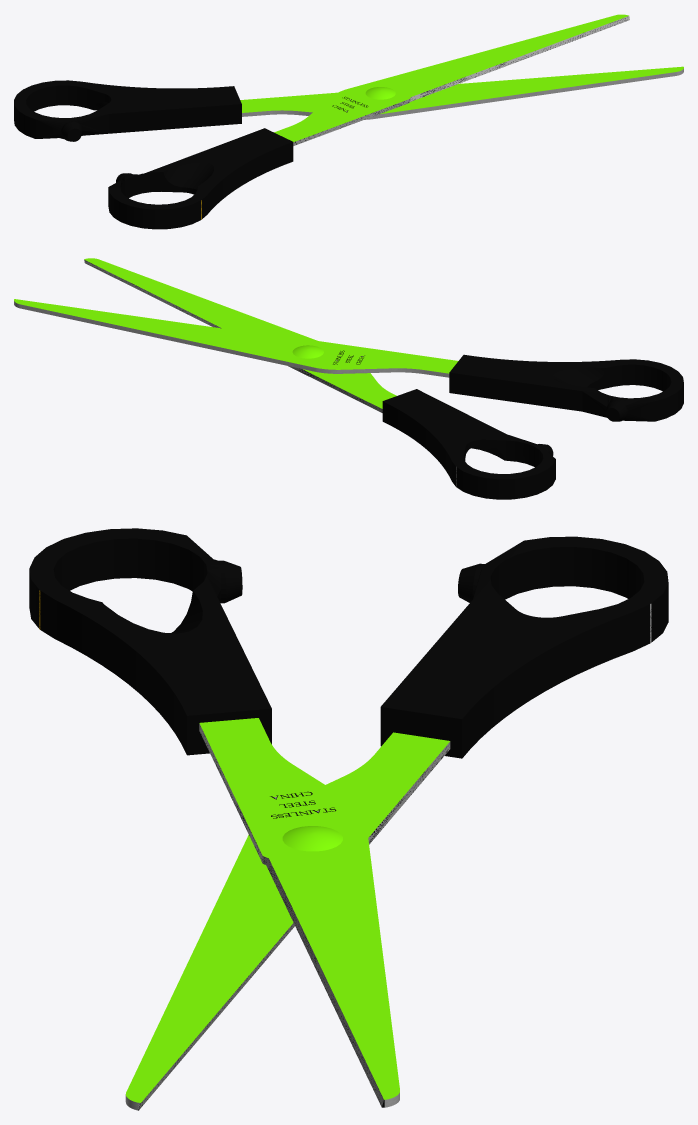
Rendered from scissors_03_origin_gt_2.dae.
The picture shows the model from 3 angles, top to bottom: view 1: azimuth 30°, elevation 25°; view 2: azimuth 150°, elevation 25°; view 3: azimuth 270°, elevation 25°; orthographic projection. The views are drawn at different scales.
Parts seen in each view (by area): view 1: scissors (×6); view 2: scissors (×6); view 3: scissors (×7).
Boxes of the visible parts, bbox=[...] form: scissors (×6): bbox=[14, 14, 683, 229]; scissors (×6): bbox=[14, 258, 683, 499]; scissors (×7): bbox=[29, 528, 668, 1109].
Size of the model in its own units: 10.98 by 5.26 by 0.4137.
Materials: 7 (3 with a texture image).
